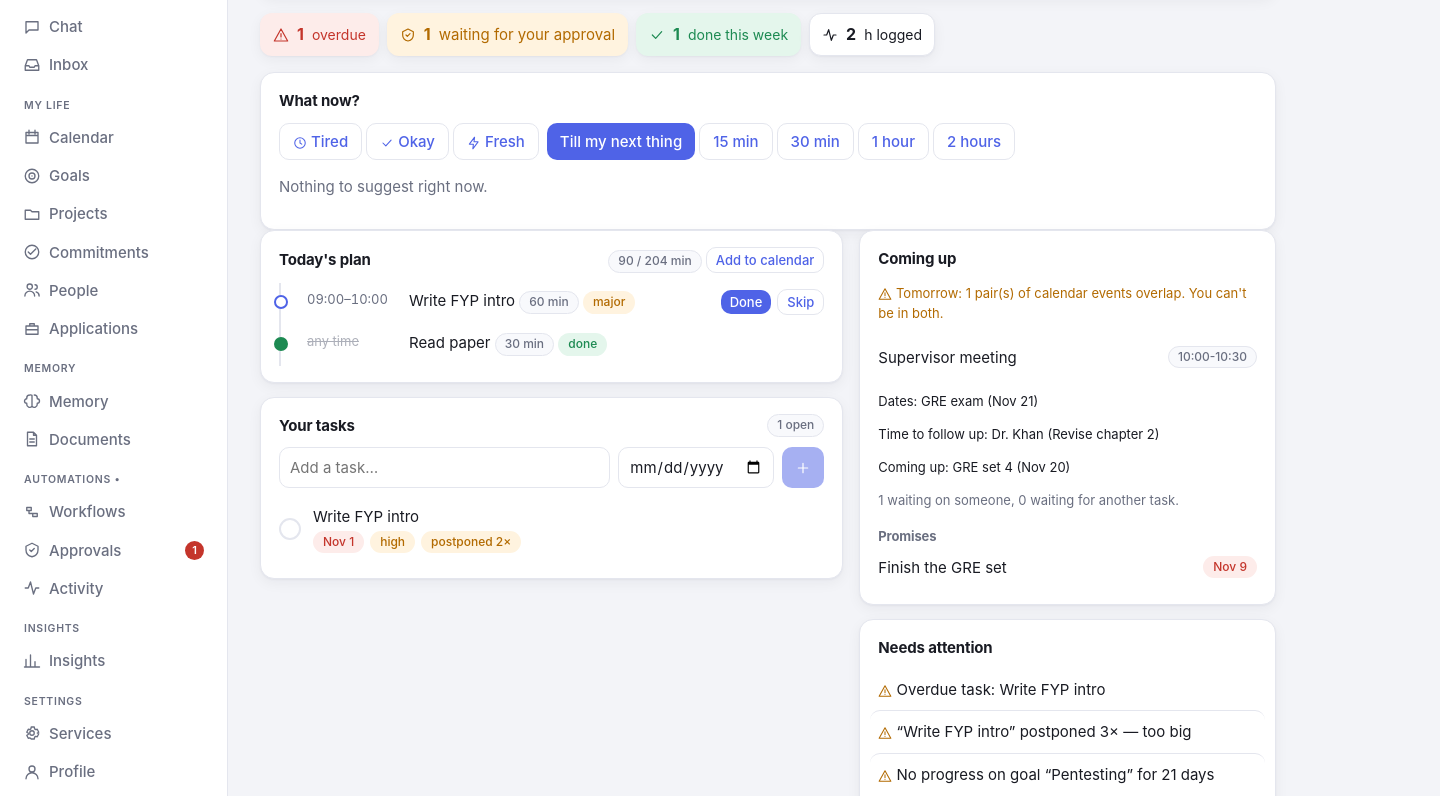
Test: dashboard smoke tests › renders the Insights tab without errors
(page scrolled)
What coordinates should you click on to do the following:
click the button "Insights"
I would click on:
 (114, 661)
Its box is [12,642,215,680].
(page scrolled)
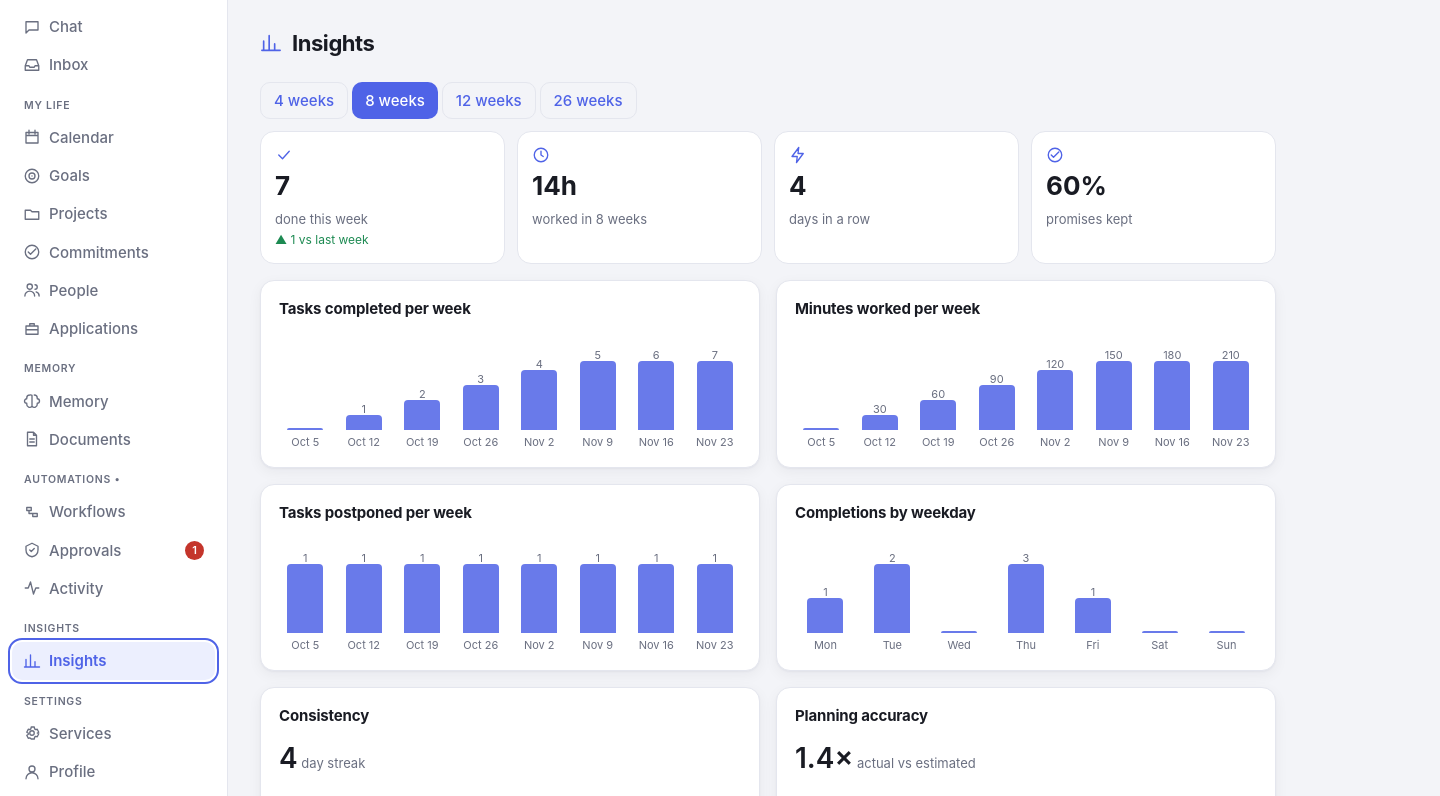
Now the text "day streak" is shown, box [298,755,365,771]
